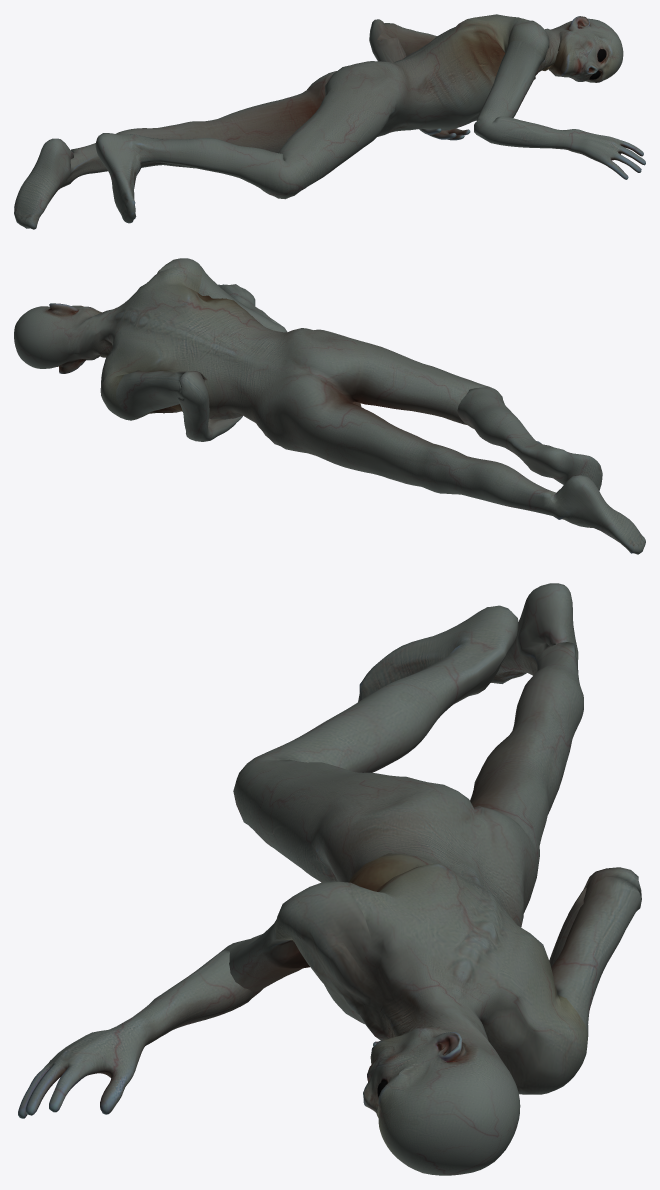
File: watcher03.FBX
3 views of the same model, one above another, from view 1: azimuth 30°, elevation 25°; view 2: azimuth 150°, elevation 25°; view 3: azimuth 270°, elevation 25° (orthographic). The views are drawn at different scales.
Visible parts, largest first — view 1: watcher_low; view 2: watcher_low; view 3: watcher_low.
Part boxes in pixels (x1=…): watcher_low: x1=14, y1=14, x2=645, y2=229; watcher_low: x1=14, y1=258, x2=645, y2=554; watcher_low: x1=18, y1=583, x2=641, y2=1175.
Size of the model in its own units: 188 by 37.88 by 87.08.
